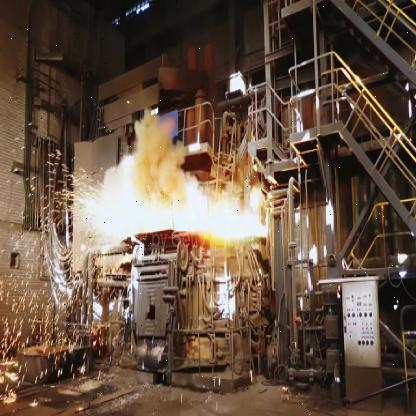fire: (188, 178, 268, 248)
smoke: (135, 107, 188, 208)
